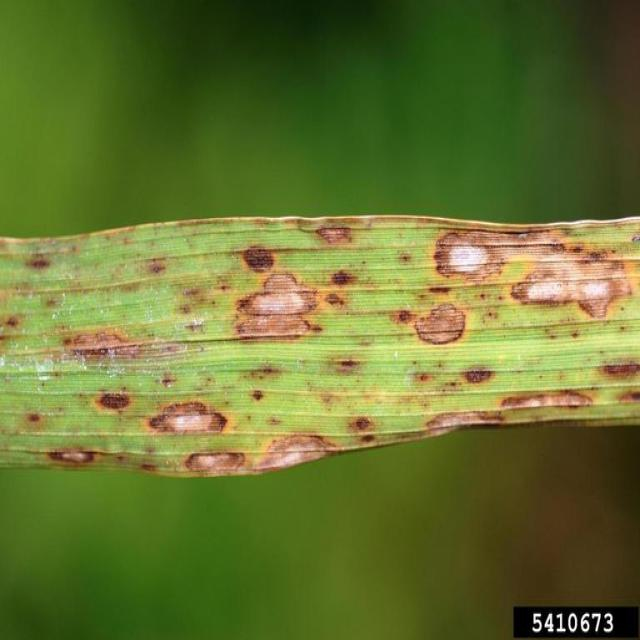Brown spot: (514, 221, 633, 315), (230, 279, 322, 339), (58, 314, 151, 370), (423, 227, 511, 275), (145, 394, 228, 440), (258, 426, 339, 470), (502, 376, 588, 414), (422, 403, 506, 437), (416, 296, 472, 344), (222, 231, 280, 277), (296, 218, 362, 250), (186, 447, 250, 478), (595, 347, 640, 388), (88, 382, 137, 418), (351, 409, 390, 447), (325, 344, 363, 376), (406, 354, 443, 386), (18, 399, 54, 431), (327, 267, 351, 313), (370, 305, 419, 327), (243, 356, 286, 380), (462, 358, 496, 383), (18, 256, 54, 279), (136, 254, 170, 274), (245, 388, 272, 406), (396, 248, 414, 266)
